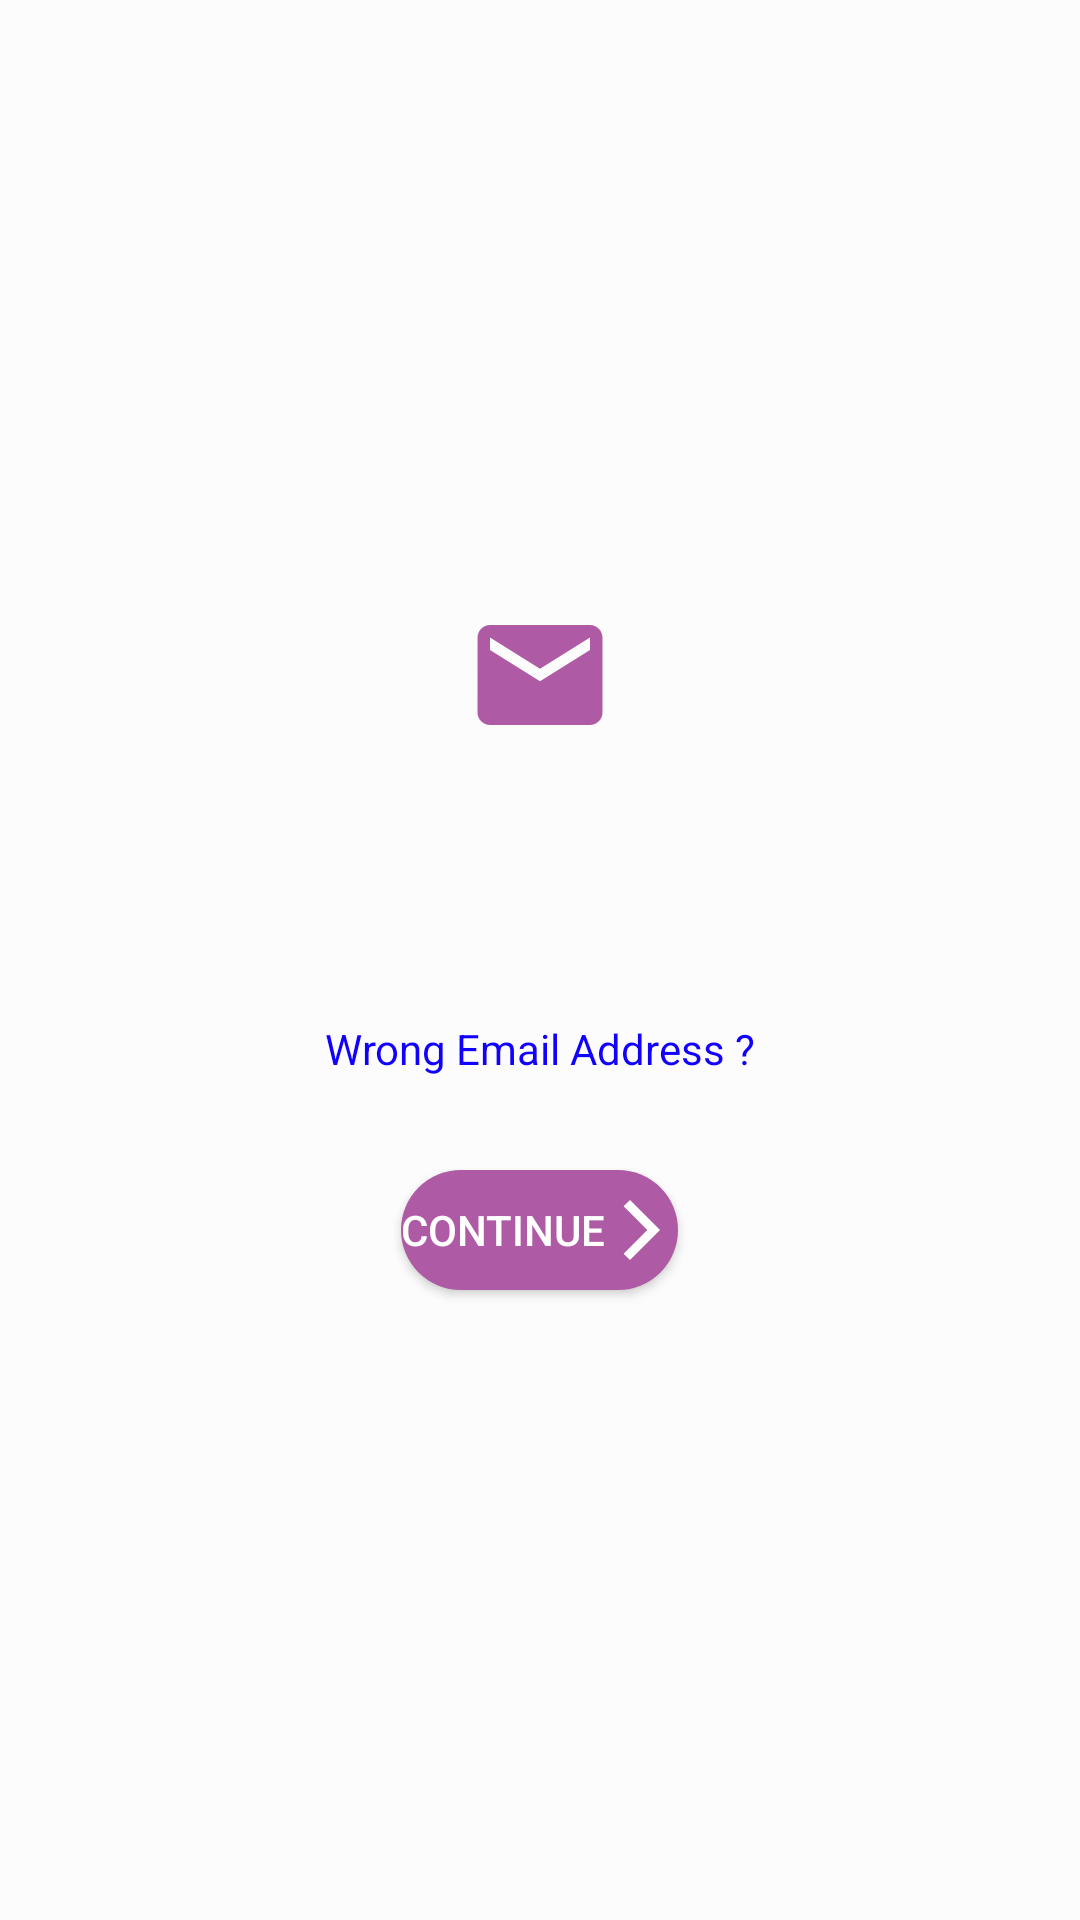

Locate icon controls on the screen. Image size 1080 x 1920, boxes as (x1, y1, x2, y2).
email: (477, 625, 603, 725)
